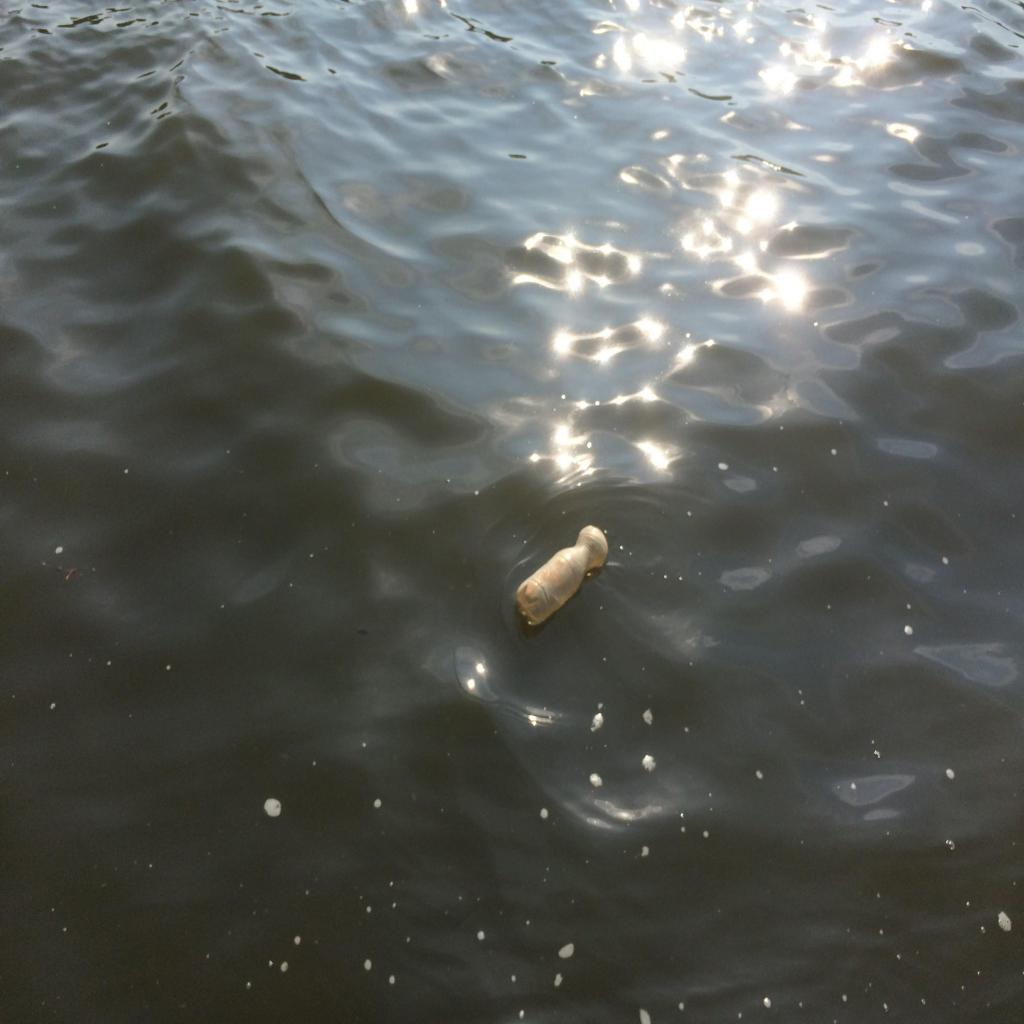Clear plastic bottle: (516, 524, 608, 624)
